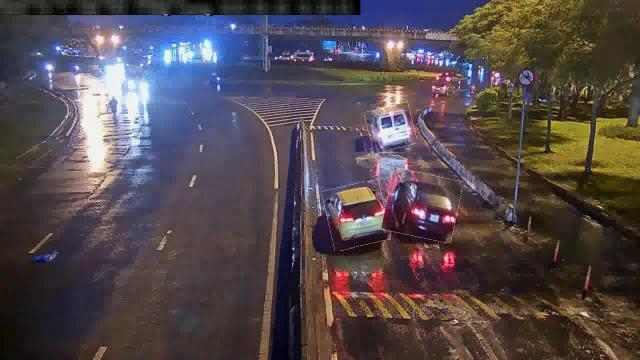Bike: (106, 94, 118, 120)
Bus: (366, 105, 416, 152)
Car: (384, 172, 461, 240), (324, 182, 388, 248)
